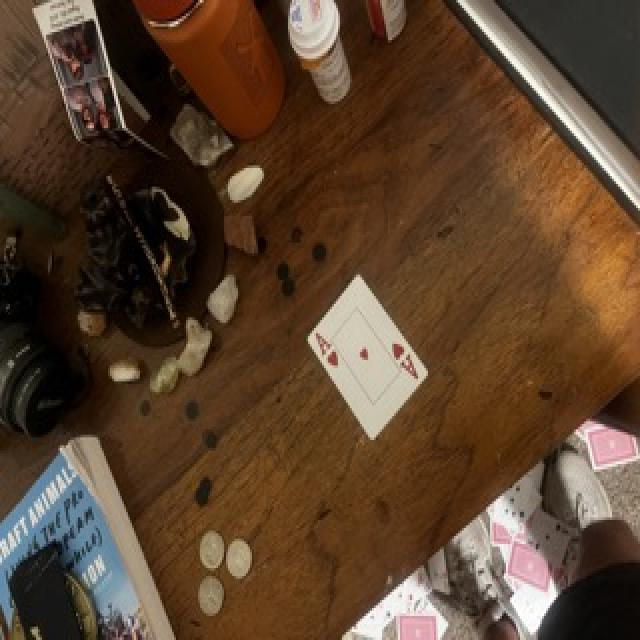Ace of hearts: (308, 275, 428, 438)
